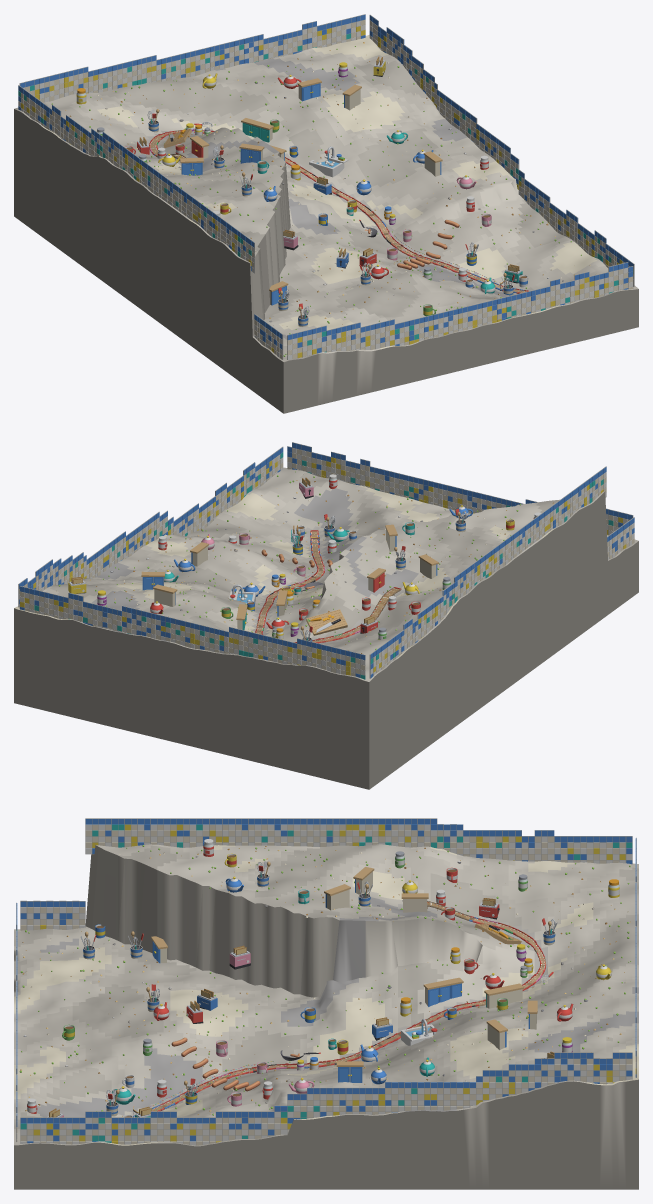
The picture shows the model from 3 angles, top to bottom: view 1: azimuth 30°, elevation 25°; view 2: azimuth 150°, elevation 25°; view 3: azimuth 270°, elevation 25°; orthographic projection. The views are drawn at different scales.
Parts seen in each view (by area): view 1: grass, theme, buildings, road, hay; view 2: grass, theme, buildings, road, hay; view 3: grass, theme, buildings, hay, road.
Part boxes in pixels (bbox=[...]): grass: bbox=[14, 35, 638, 413]; theme: bbox=[18, 14, 634, 359]; buildings: bbox=[76, 56, 574, 326]; road: bbox=[150, 130, 526, 292]; hay: bbox=[149, 129, 528, 293]; grass: bbox=[14, 467, 638, 789]; theme: bbox=[18, 442, 634, 679]; buildings: bbox=[68, 474, 541, 641]; road: bbox=[256, 531, 399, 642]; hay: bbox=[255, 530, 401, 643]; grass: bbox=[14, 844, 638, 1189]; theme: bbox=[16, 818, 636, 1145]; buildings: bbox=[27, 839, 619, 1117]; hay: bbox=[133, 901, 546, 1116]; road: bbox=[134, 902, 545, 1117].
Size of the model in its own units: 365 by 145 by 480.
